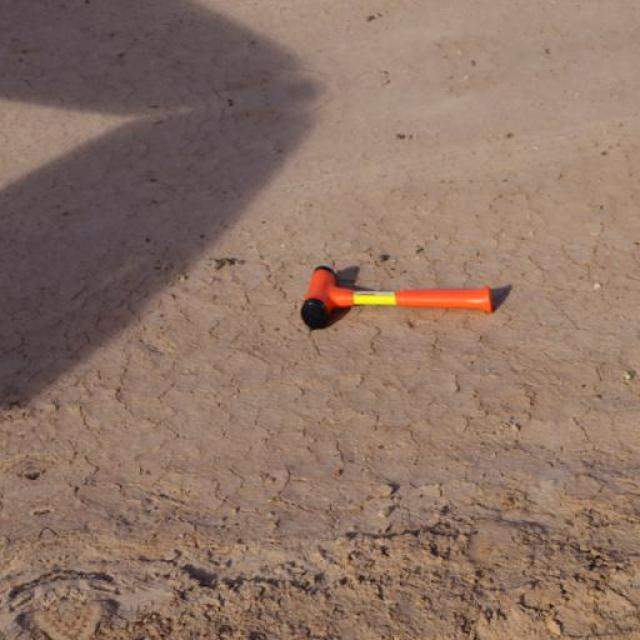mallet: (301, 262, 514, 330)
